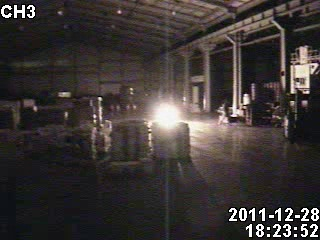fire: (151, 99, 179, 133)
